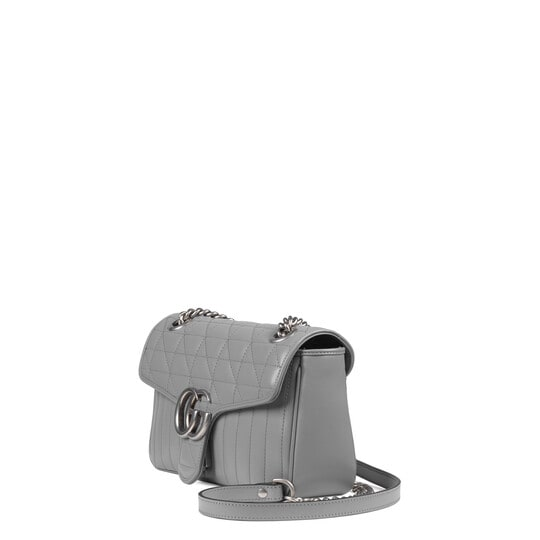Gucci: (139, 279, 386, 520), (168, 383, 222, 446)
